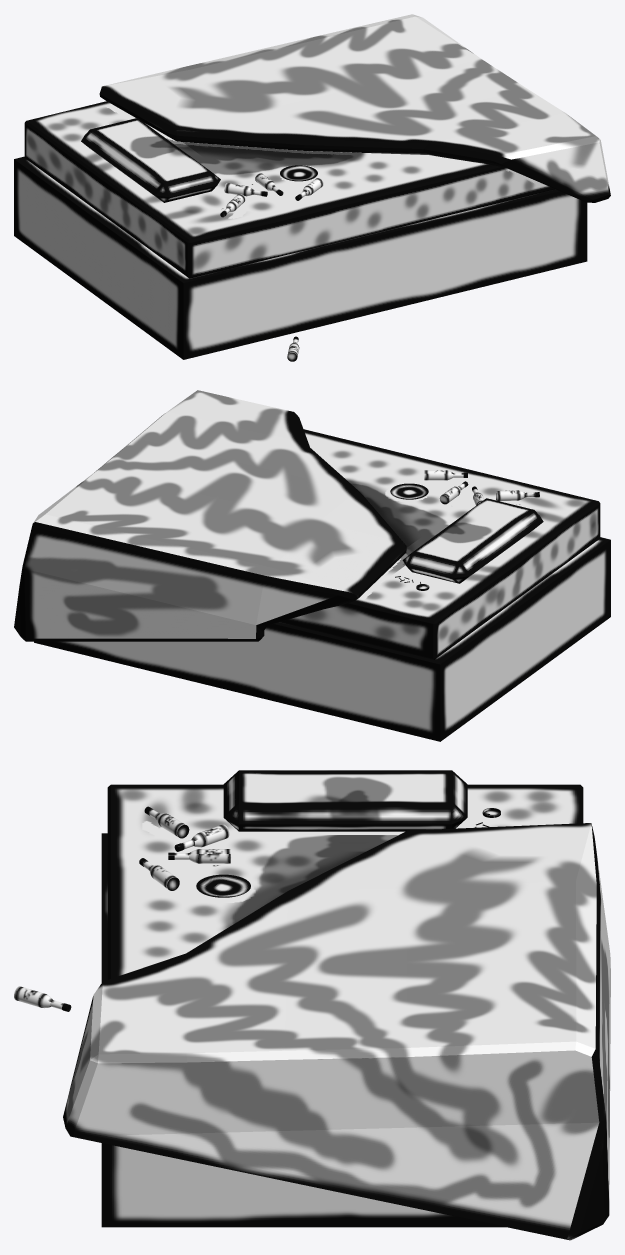
The model's file is bed.fbx.
3 renders of one model, top to bottom at view 1: azimuth 30°, elevation 25°; view 2: azimuth 150°, elevation 25°; view 3: azimuth 270°, elevation 25°, orthographic. The views are drawn at different scales.
Parts seen in each view (by area): view 1: Cylinder.002; view 2: Cylinder.002; view 3: Cylinder.002.
Boxes of the visible parts, x1,y1,x2,y2 form: Cylinder.002: (14,14,610,361); Cylinder.002: (14,390,610,741); Cylinder.002: (14,770,610,1240).
Size of the model in its own units: 1173 by 350 by 979.
